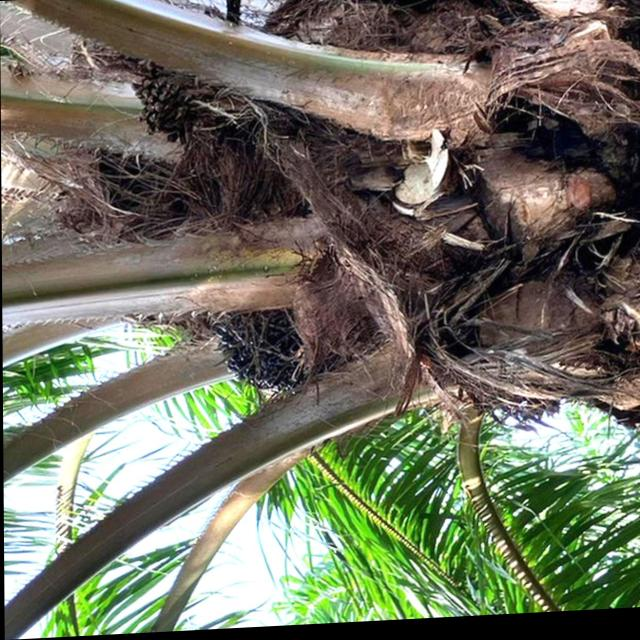unripe: (202, 296, 324, 412)
